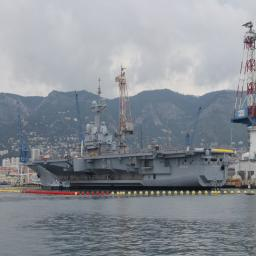Portanaves: (21, 81, 233, 193)
